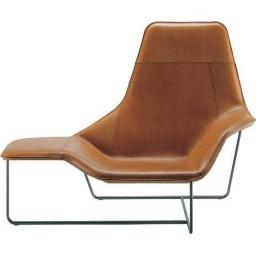Chair: (3, 22, 253, 232)
